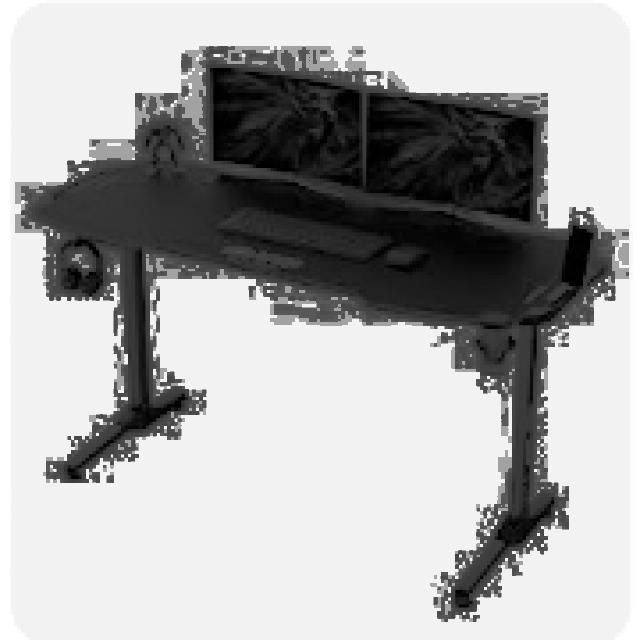table: (32, 154, 608, 608)
